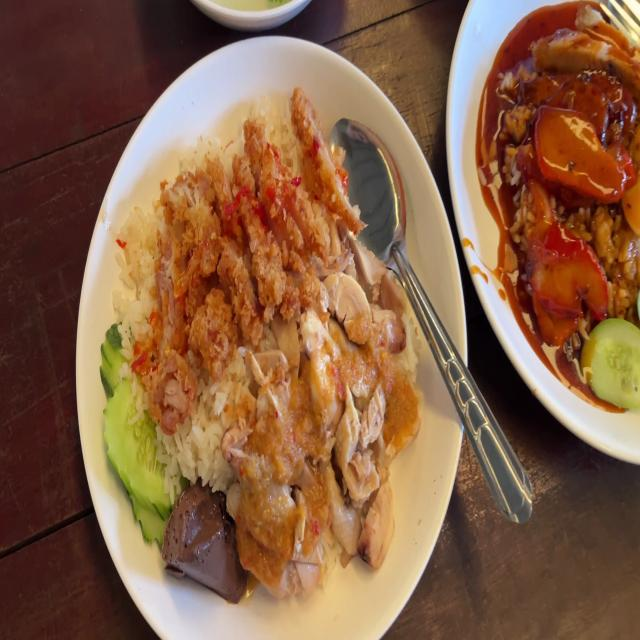boiled_chicken: (237, 265, 412, 585)
boiled_chicken_blood_jelly: (164, 482, 248, 604)
chainese_sausage: (528, 57, 635, 132)
chicken_rice: (100, 86, 424, 601)
crispy_pork: (529, 24, 640, 78)
cucumber: (97, 320, 184, 547), (580, 314, 640, 404)
fried_chicken: (140, 90, 359, 422)
red_pork: (528, 217, 604, 338), (536, 100, 622, 198)
red_pork_and_crispy_pork: (495, 6, 640, 407)
